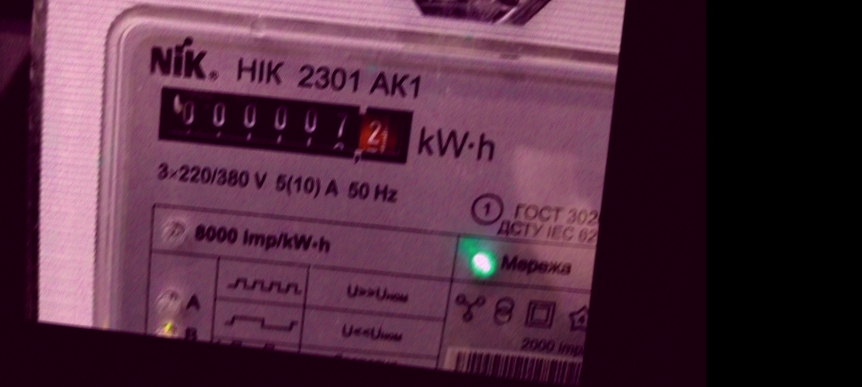0: (238, 102, 259, 131), (208, 100, 228, 130), (177, 98, 197, 127), (300, 106, 319, 136), (270, 104, 288, 132)
2: (364, 118, 383, 149)
7: (330, 111, 349, 141)
screen: (146, 73, 425, 177)
